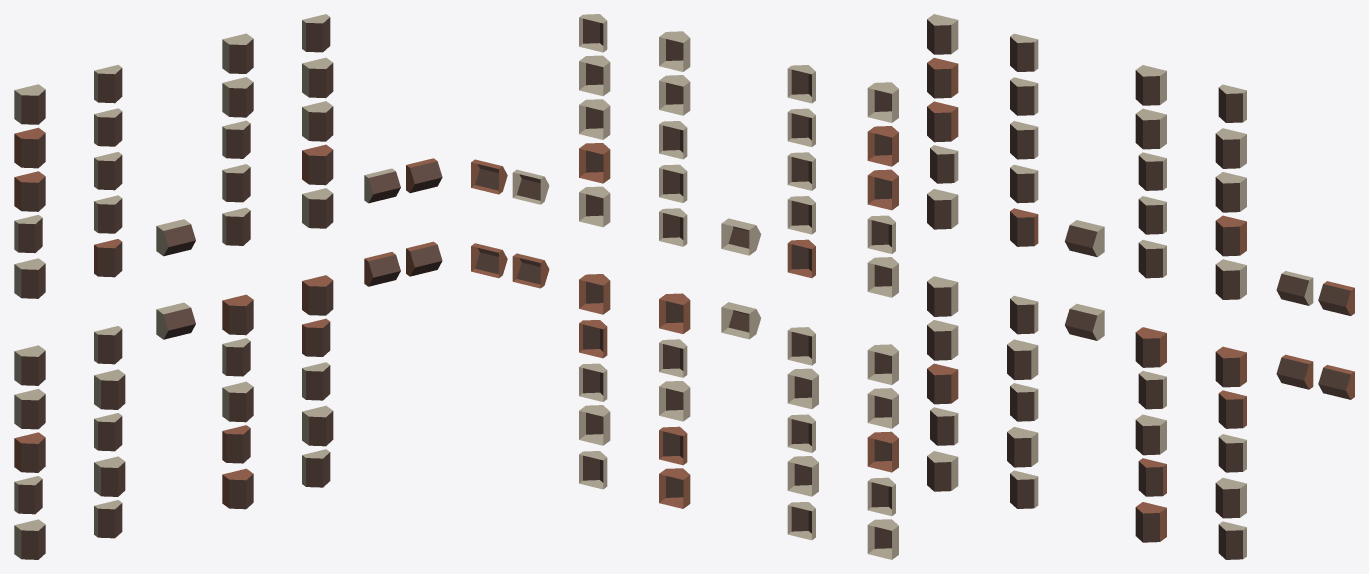
Rendered from island_bldg_20_04.obj.
The picture shows the model from 3 angles, left to right: view 1: azimuth 30°, elevation 25°; view 2: azimuth 150°, elevation 25°; view 3: azimuth 330°, elevation 25°; orthographic projection.
Parts seen in each view (by area): view 1: island_bldg_20_04; view 2: island_bldg_20_04; view 3: island_bldg_20_04.
Part boxes in pixels (<box>): island_bldg_20_04: <box>14,14,442,559</box>; island_bldg_20_04: <box>471,14,898,559</box>; island_bldg_20_04: <box>927,14,1354,559</box>.
Bounding box in the file's own units: 242 × 256 × 11.9.
